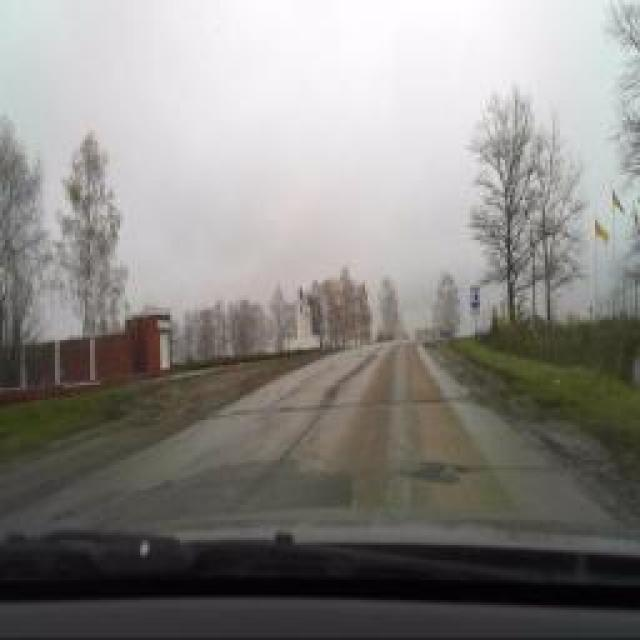sign: (470, 285, 480, 307)
